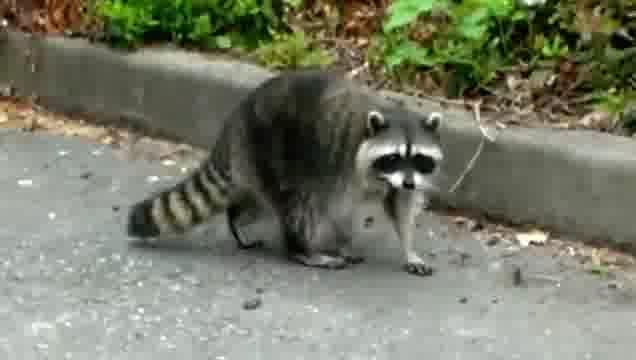raccoon: (122, 70, 447, 284)
